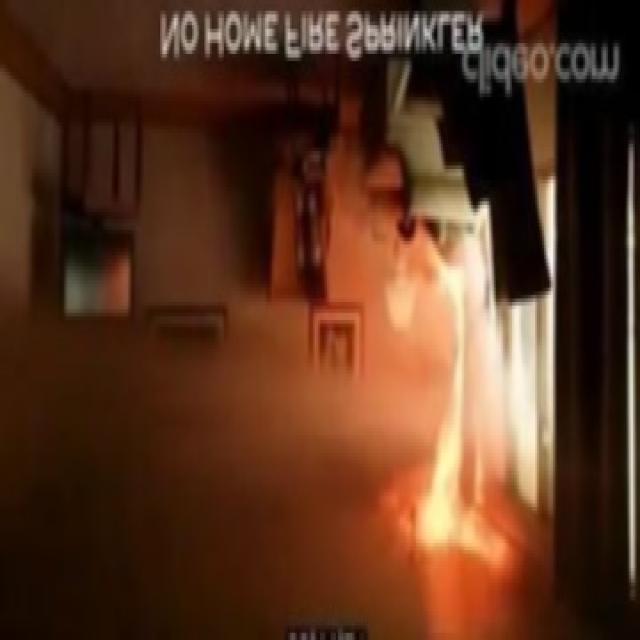fire: (383, 214, 515, 624)
